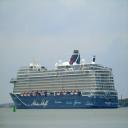cruises: (10, 48, 122, 112)
